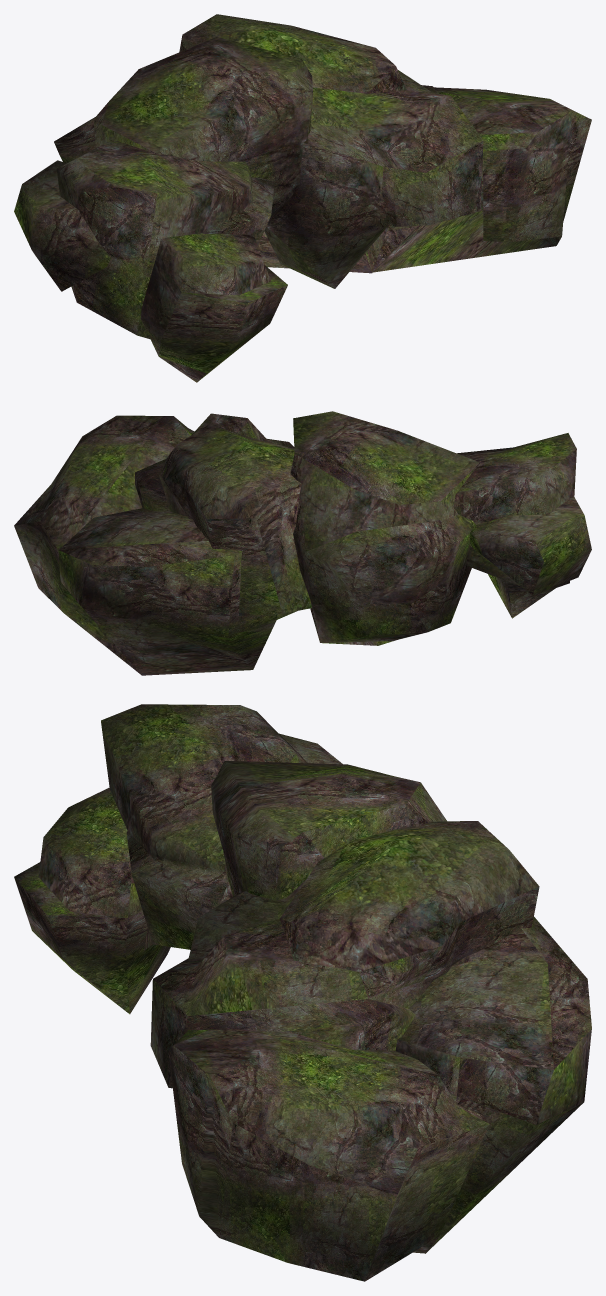
Rendered from S_Rock_Green031.FBX.
3 views of the same model, one above another, from view 1: azimuth 30°, elevation 25°; view 2: azimuth 150°, elevation 25°; view 3: azimuth 270°, elevation 25° (orthographic). The views are drawn at different scales.
Parts seen in each view (by area): view 1: S_Rock_Green031; view 2: S_Rock_Green031; view 3: S_Rock_Green031.
Part boxes in pixels (x1,y1,x2,y2): S_Rock_Green031: (14, 14, 591, 382); S_Rock_Green031: (14, 411, 591, 675); S_Rock_Green031: (14, 704, 591, 1281).
Bounding box in the file's own units: 449 × 313 × 212.
